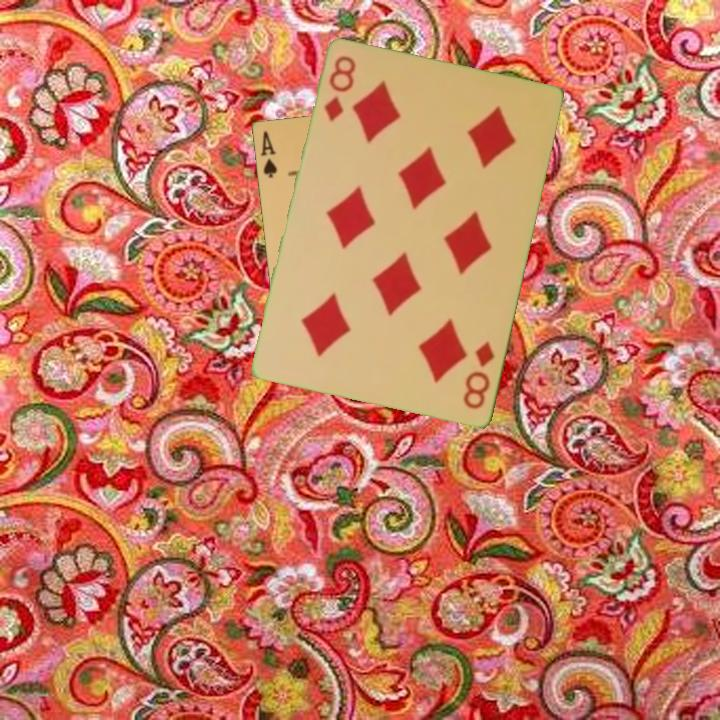8d: (460, 338, 498, 413), (320, 52, 358, 125)
As: (257, 128, 280, 181)
